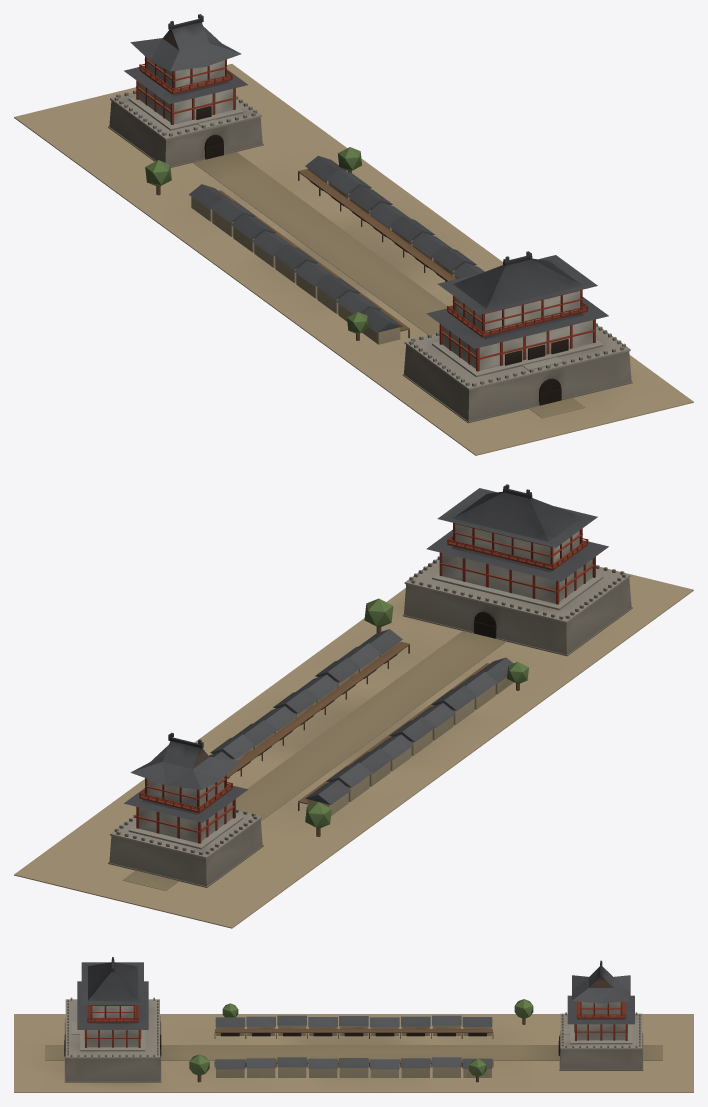
The model's file is yuan-towers.glb.
The picture shows the model from 3 angles, top to bottom: view 1: azimuth 30°, elevation 25°; view 2: azimuth 150°, elevation 25°; view 3: azimuth 270°, elevation 25°; orthographic projection. The views are drawn at different scales.
Visible parts, largest first — view 1: p0_base, p1_market, p2_trees; view 2: p0_base, p1_market, p2_trees; view 3: p0_base, p1_market, p2_trees.
Boxes of the visible parts, x1,y1,x2,y2 form: p0_base: (14, 64, 693, 455); p1_market: (128, 56, 603, 377); p2_trees: (124, 14, 608, 348); p0_base: (14, 556, 693, 928); p1_market: (128, 523, 603, 849); p2_trees: (124, 484, 608, 836); p0_base: (14, 997, 693, 1092); p1_market: (71, 1001, 632, 1077); p2_trees: (77, 957, 634, 1082).
Size of the model in its own units: 60 by 33.12 by 220.
